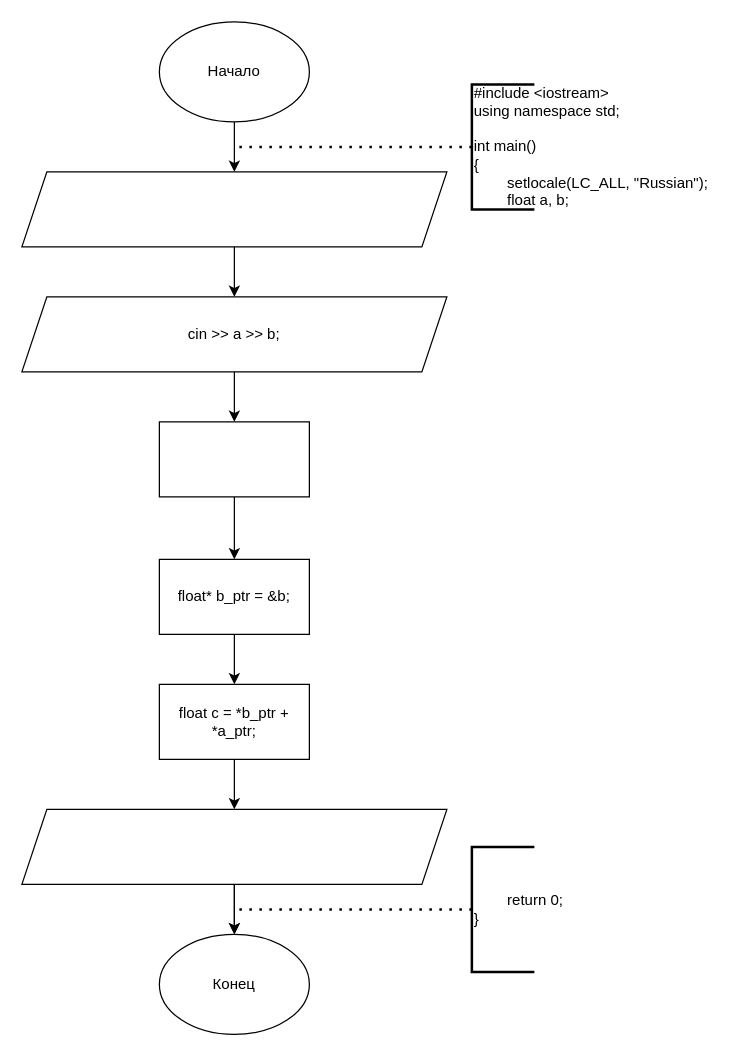
Some shapes in this 730 by 1056 pixel diagram are drawn without their labels. Here are the shapes that lost their labels. From the top down, the centre of each, then its label:
pixel 234 209: cout << "Введите 2 числа, по одному в каждой строке: \n";
pixel 233 459: float* a_ptr = &a;
pixel 234 846: cout << "a + b = " << c << endl;
